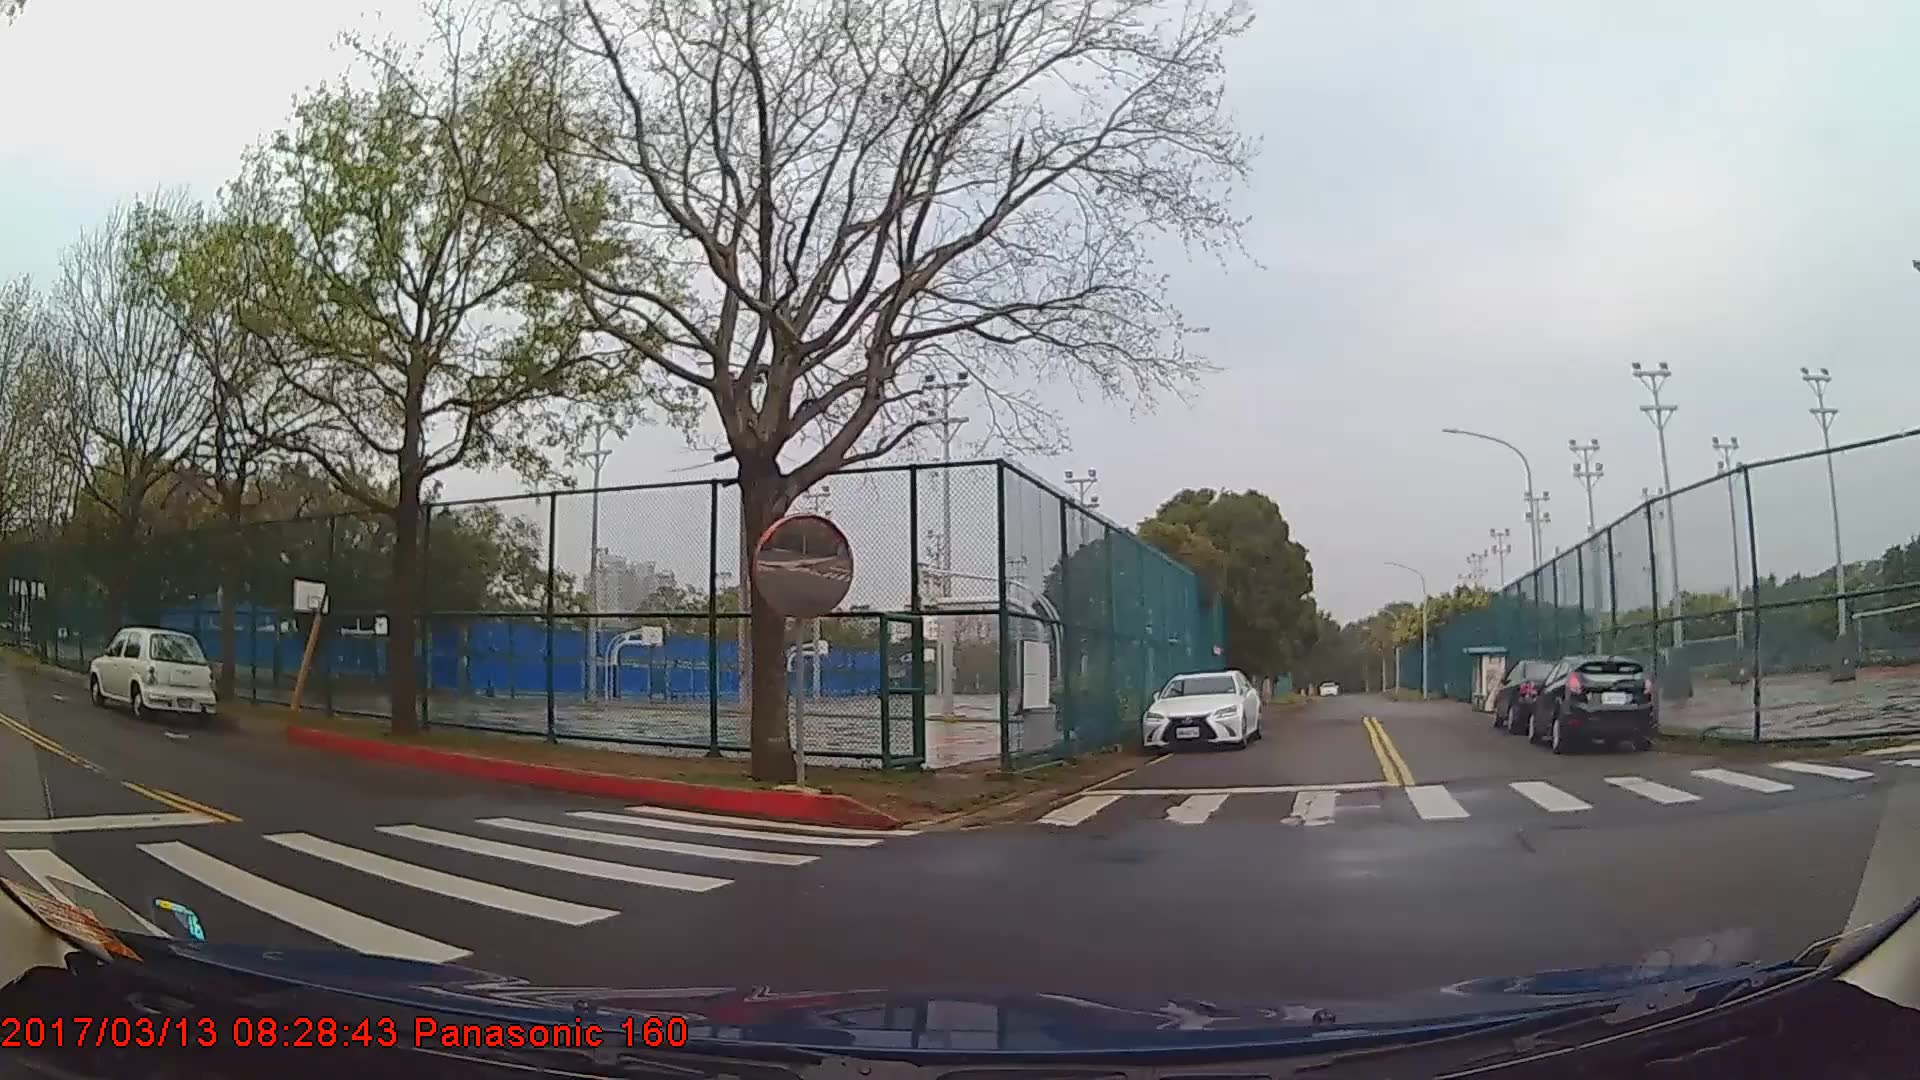vehicle: (84, 626, 222, 723), (1526, 651, 1654, 752), (1142, 667, 1261, 752), (1494, 657, 1578, 735)
